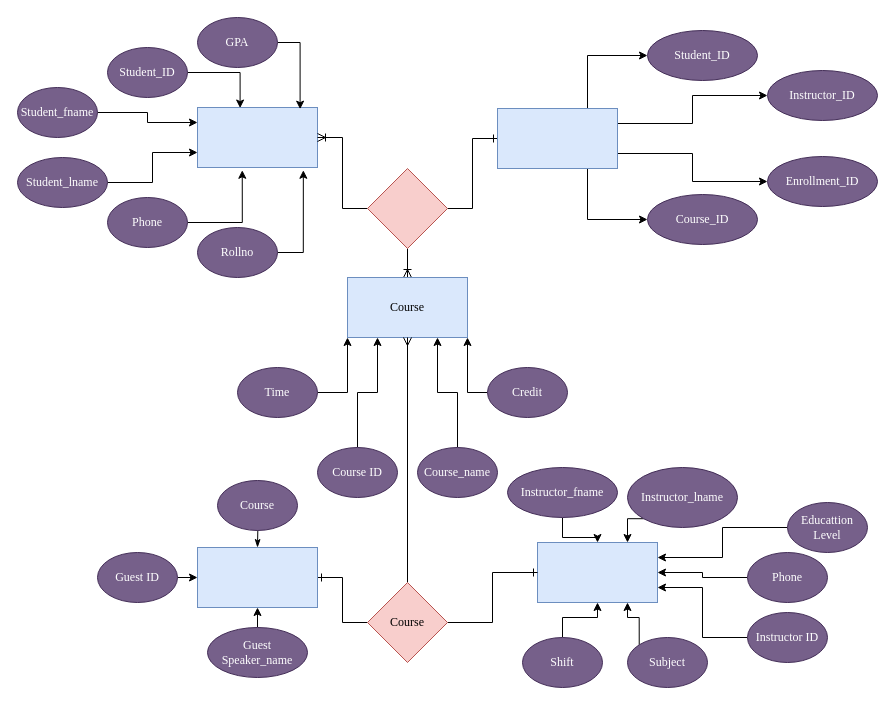
This 895x705 diagram has some shape labels left out. Each missing label, with the centre of its shape:
Enrolled: (x=407, y=208)
Enrollment: (x=557, y=138)
Guest: (x=257, y=577)
Instructor: (x=597, y=572)
Student: (x=257, y=137)
